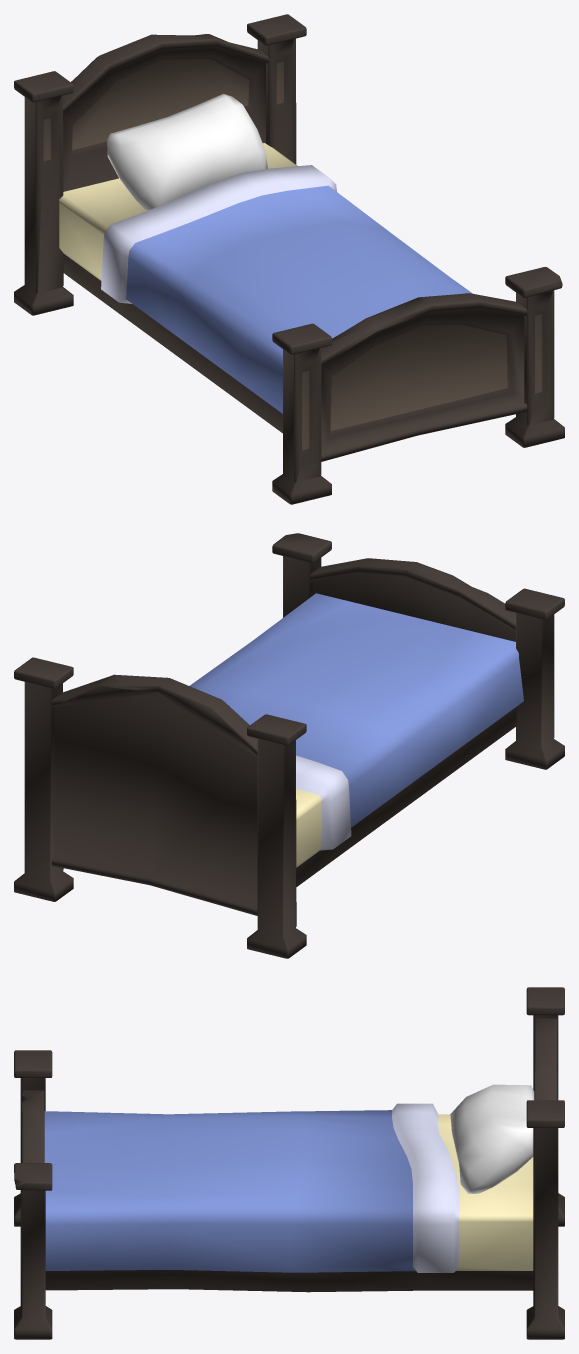
Rendered from Bed.FBX.
3 views of the same model, one above another, from view 1: azimuth 30°, elevation 25°; view 2: azimuth 150°, elevation 25°; view 3: azimuth 270°, elevation 25° (orthographic).
Visible parts, largest first — view 1: Bed; view 2: Bed; view 3: Bed.
Part boxes in pixels (bbox=[...]): Bed: bbox=[14, 14, 564, 504]; Bed: bbox=[14, 533, 564, 958]; Bed: bbox=[14, 987, 564, 1339].
Size of the model in its own units: 153 by 126 by 267.
